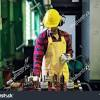helmet: (40, 8, 66, 29)
